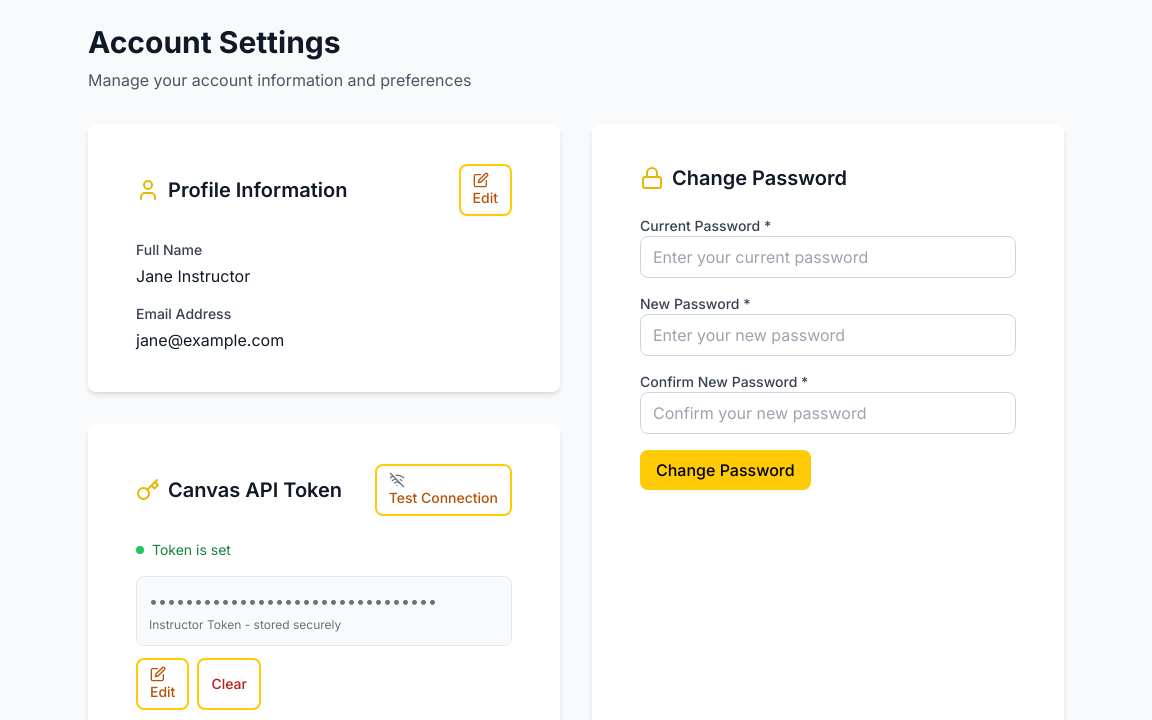
Test: Canvas API token section - token already set › Test Connection reports a failed connection
Step 1. Click the button "Test Connection" → (443, 490), box [375,464,512,516]
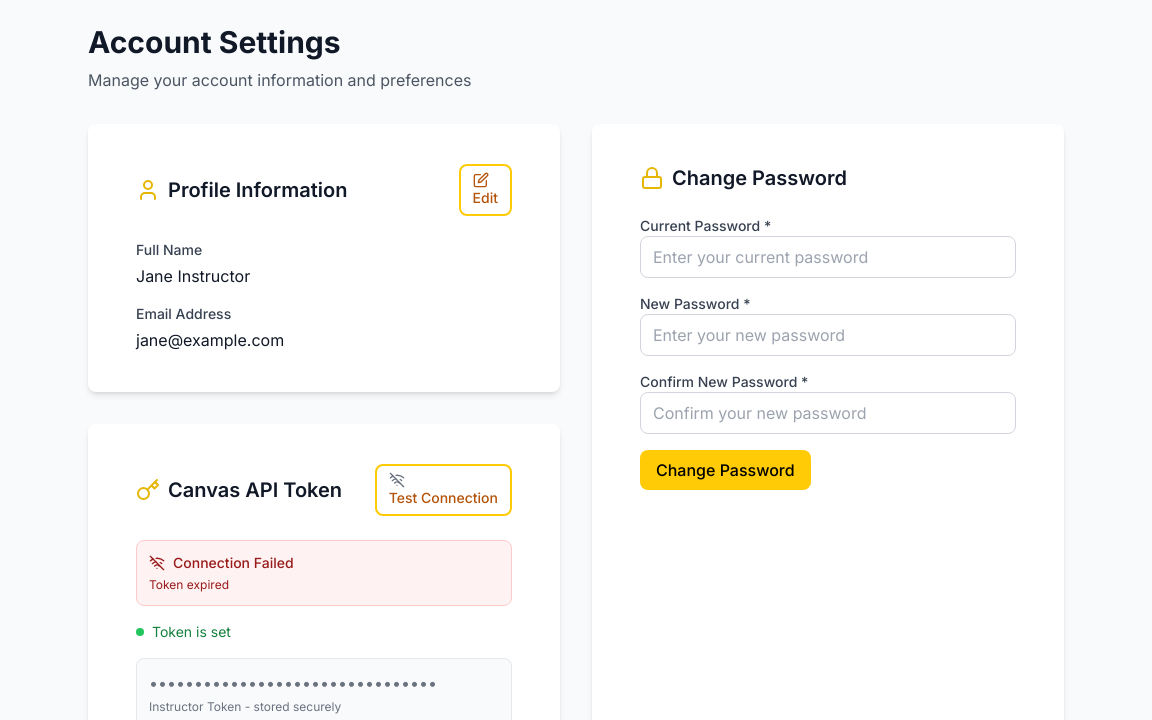
Result: the text "Connection Failed" is shown at [173,553,294,573]
